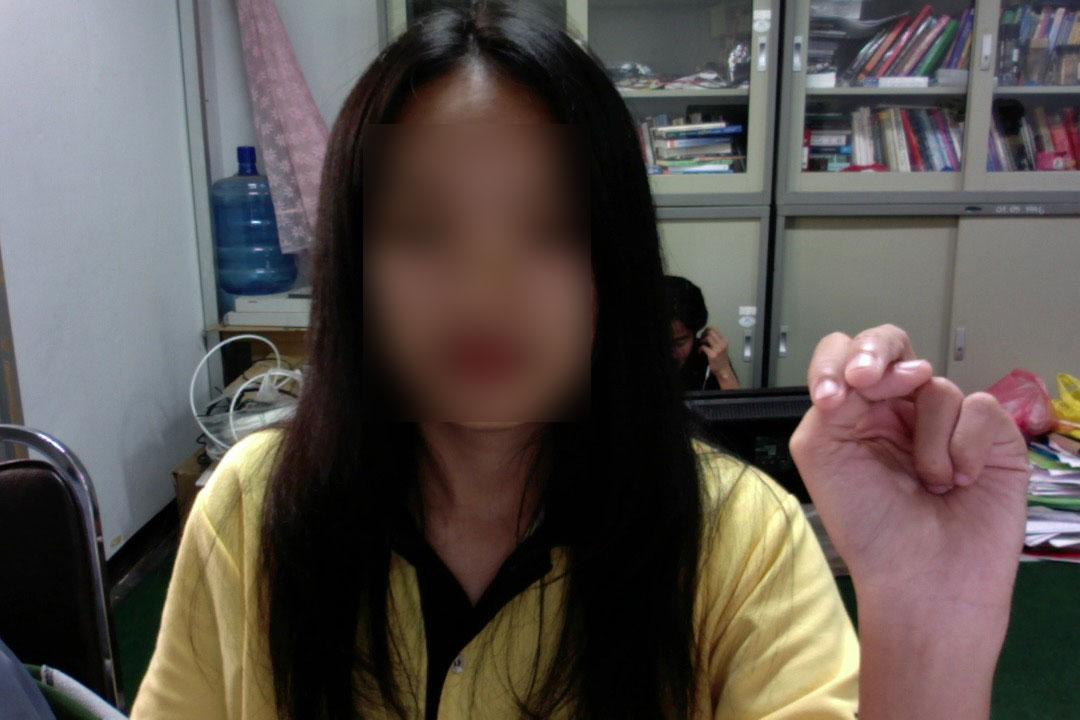nor: (780, 316, 1043, 655)
